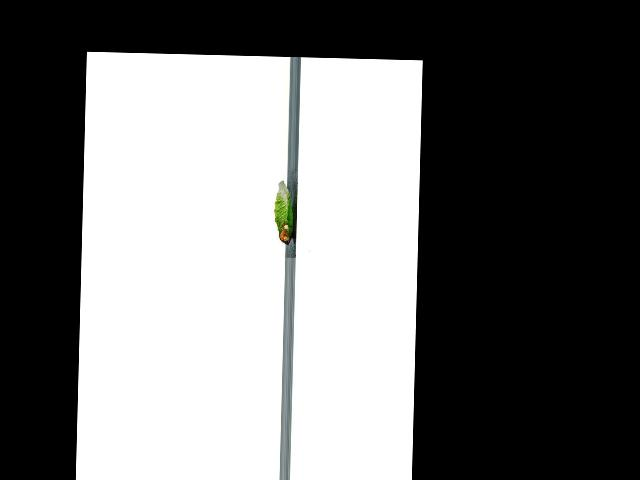lettuce: (271, 179, 297, 247)
